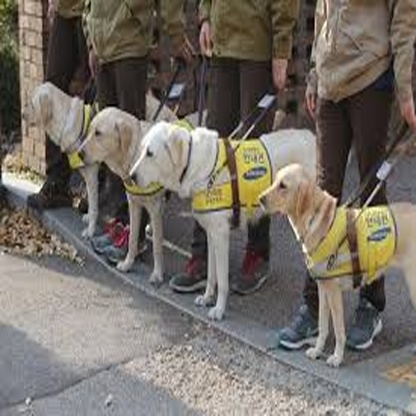guide-dog: (129, 115, 329, 319), (256, 165, 416, 380), (74, 107, 180, 291), (26, 79, 101, 232)
